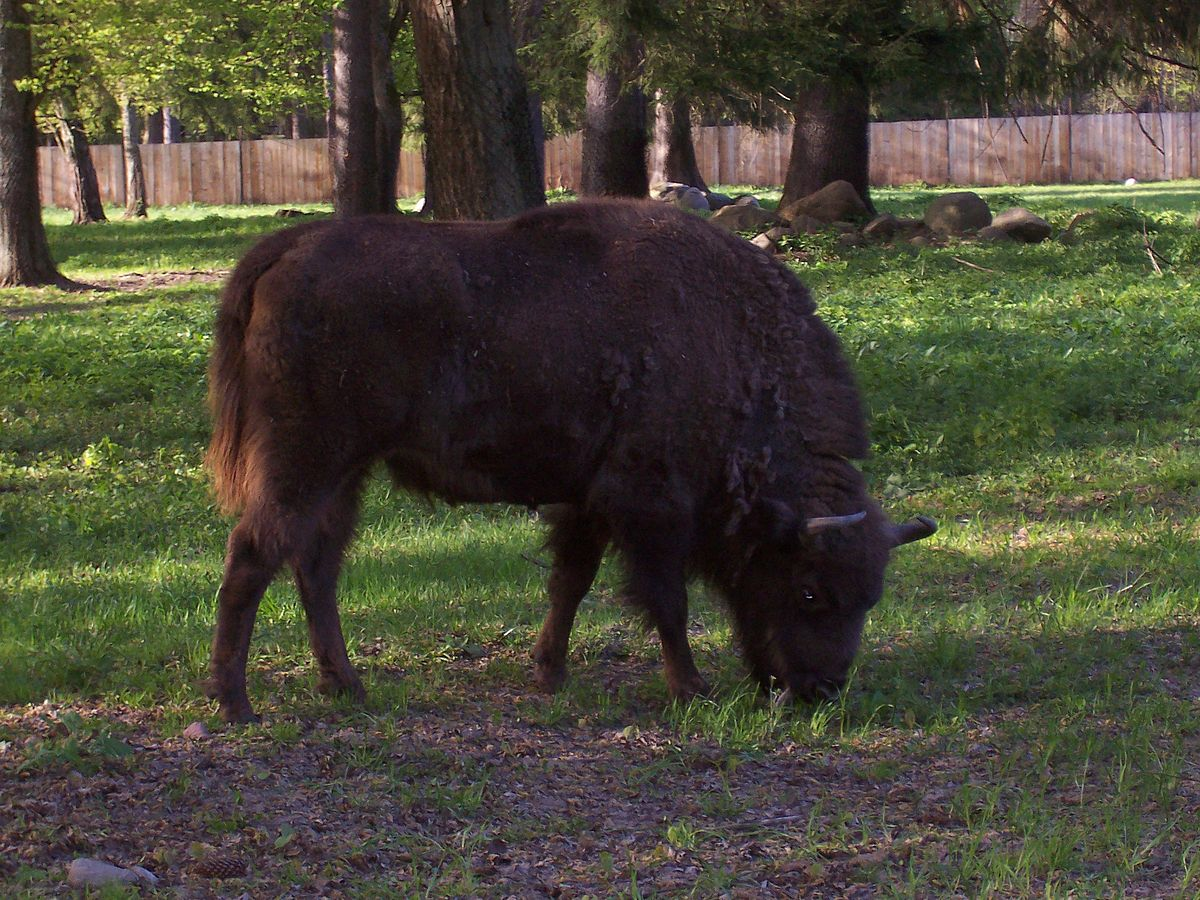zubr: (130, 174, 964, 797)
